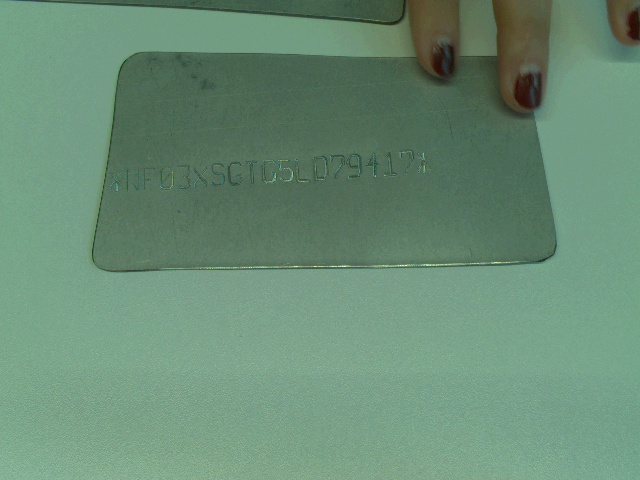0: (158, 165, 176, 191)
1: (382, 151, 398, 178)
3: (175, 164, 193, 189)
4: (363, 152, 382, 178)
5: (277, 158, 294, 183)
7: (398, 150, 415, 176), (329, 155, 346, 179)
9: (346, 153, 361, 178)
d: (313, 155, 329, 181)
f: (142, 166, 156, 191)
g: (260, 159, 278, 183), (227, 161, 243, 186)
l: (294, 158, 311, 184)
s: (210, 162, 226, 187)
t: (244, 159, 258, 184)
w: (125, 167, 141, 191)
x: (191, 164, 209, 188)
